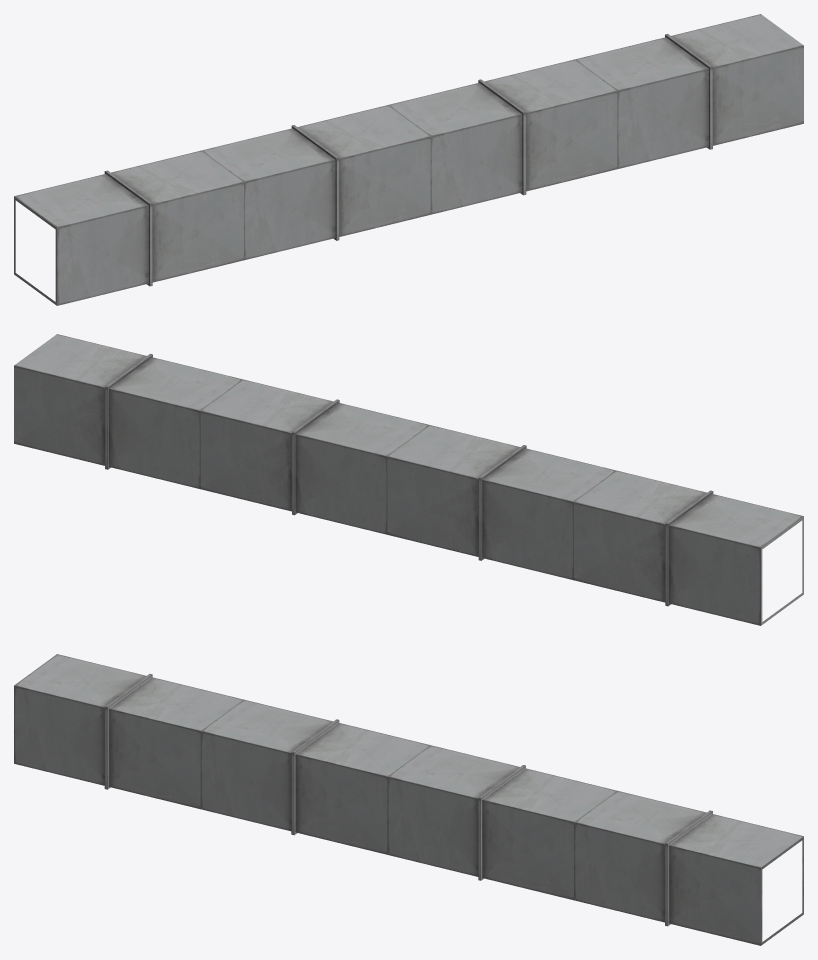
Rendered from SM_Vent_Duct_Quart_01.glb.
The picture shows the model from 3 angles, top to bottom: view 1: azimuth 30°, elevation 25°; view 2: azimuth 150°, elevation 25°; view 3: azimuth 330°, elevation 25°; orthographic projection.
Visible parts, largest first — view 1: SM_Vent_Duct_Quart_01; view 2: SM_Vent_Duct_Quart_01; view 3: SM_Vent_Duct_Quart_01.
Boxes of the visible parts, <box> form: SM_Vent_Duct_Quart_01: <box>14,14,803,305</box>; SM_Vent_Duct_Quart_01: <box>14,334,803,625</box>; SM_Vent_Duct_Quart_01: <box>14,654,803,945</box>.
Size of the model in its own units: 4 by 0.4216 by 0.4178.
Materials: 1 (1 with a texture image).
